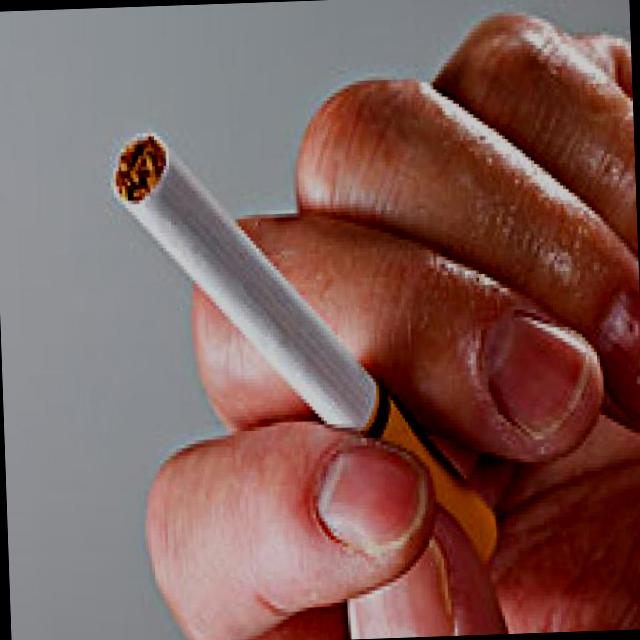cigarette: (102, 118, 366, 440)
